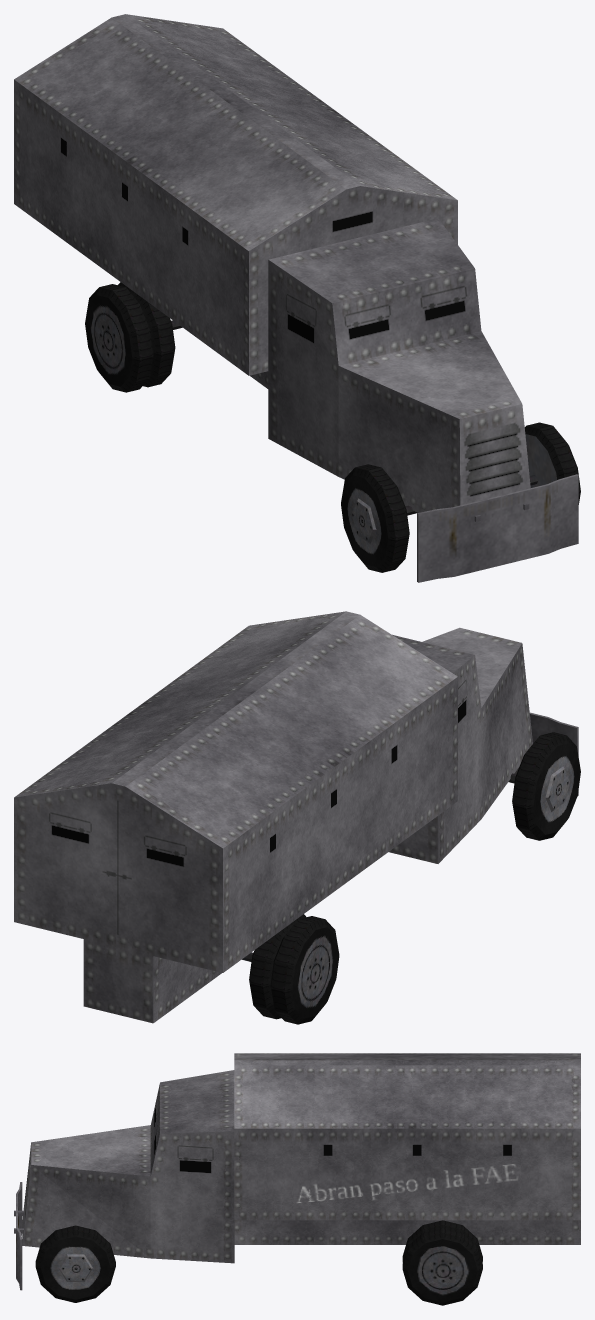
File: esrtiznao.dae
3 renders of one model, top to bottom at view 1: azimuth 30°, elevation 25°; view 2: azimuth 150°, elevation 25°; view 3: azimuth 270°, elevation 25°, orthographic. The views are drawn at different scales.
Parts seen in each view (by area): view 1: base, wheels1, wheels2; view 2: base, wheels2, wheels1; view 3: base, wheels2, wheels1.
Boxes of the visible parts, left/top/right/bottom form: base: left=14, top=14, right=578, bottom=582; wheels1: left=341, top=422, right=580, bottom=572; wheels2: left=85, top=282, right=182, bottom=392; base: left=14, top=611, right=578, bottom=1023; wheels2: left=242, top=914, right=339, bottom=1024; wheels1: left=508, top=732, right=580, bottom=840; base: left=14, top=1053, right=580, bottom=1290; wheels2: left=402, top=1220, right=482, bottom=1305; wheels1: left=35, top=1225, right=115, bottom=1302.
Size of the model in its own units: 17.22 by 54.8 by 22.08.
1 material, 1 textured.
